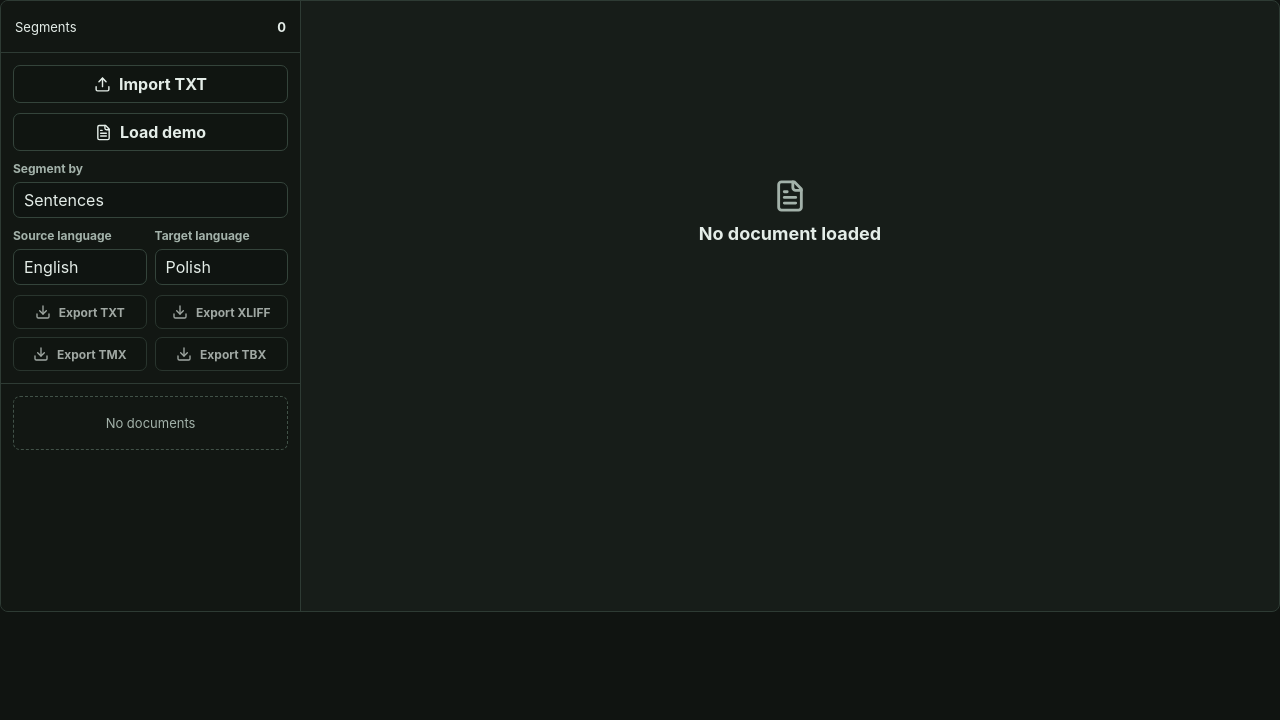
Test: loads seeded demo data into the editor
Click the button "Load demo" at (150, 132), box top-left (13, 113), bottom-right (288, 151)
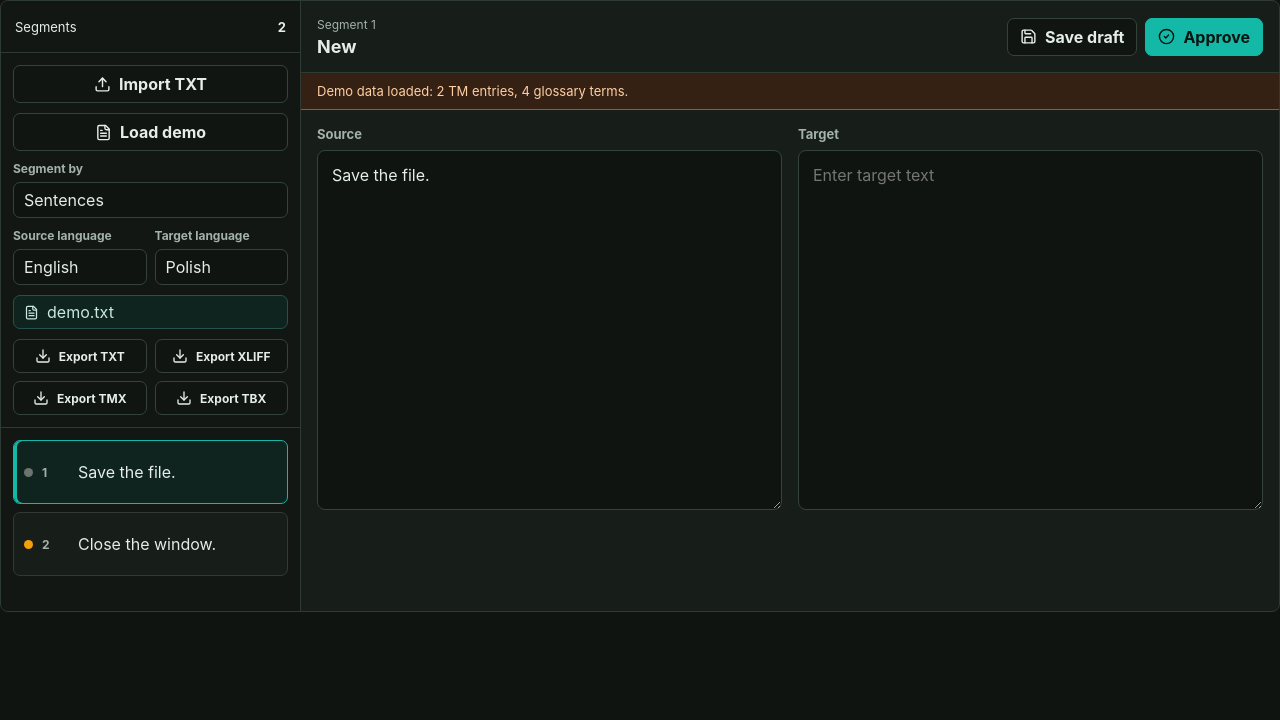
Expected: the text "demo.txt" is shown, top-left (47, 302), bottom-right (114, 322)
Expected: the text "Demo data loaded: 2 TM entries, 4 glossary terms." is shown, top-left (301, 73), bottom-right (1279, 110)
